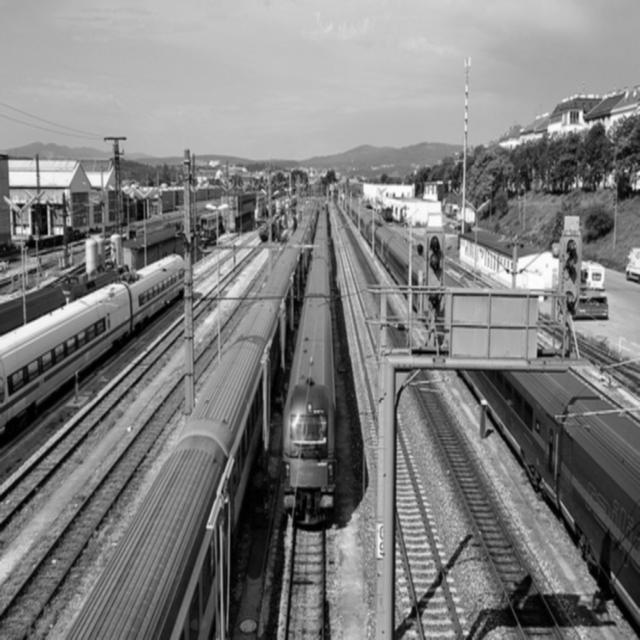bus: (573, 284, 608, 317)
truck: (624, 245, 638, 283)
